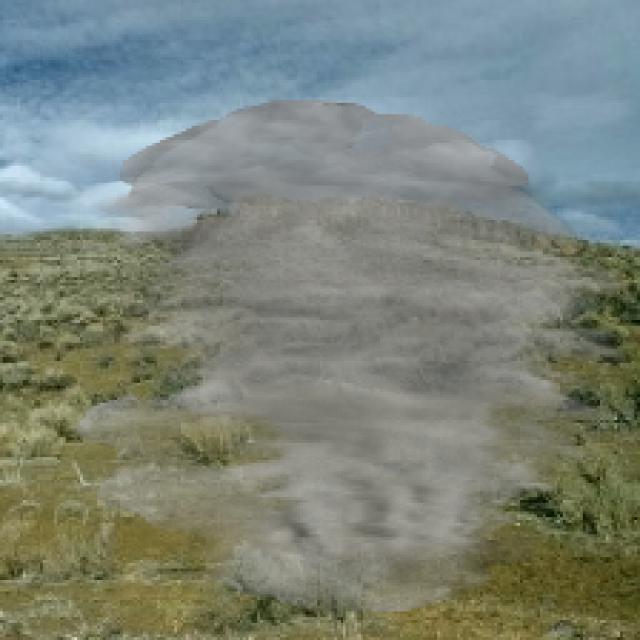smoke: (74, 100, 632, 614)
